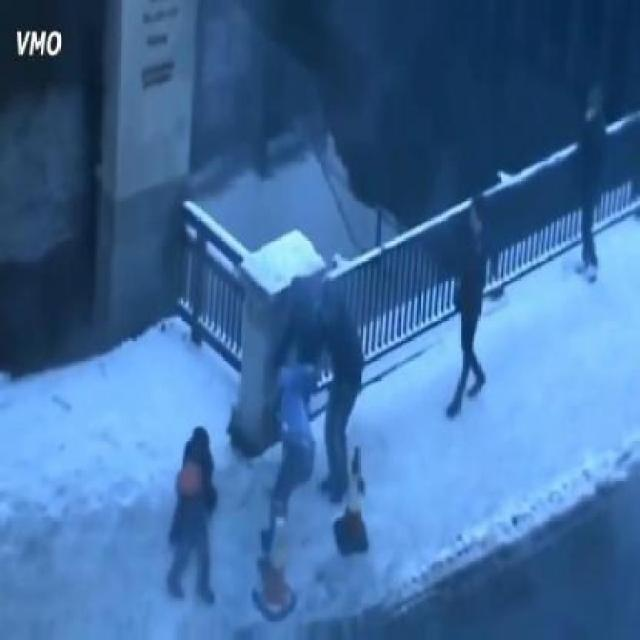fall: (268, 356, 320, 550), (172, 409, 222, 603)
